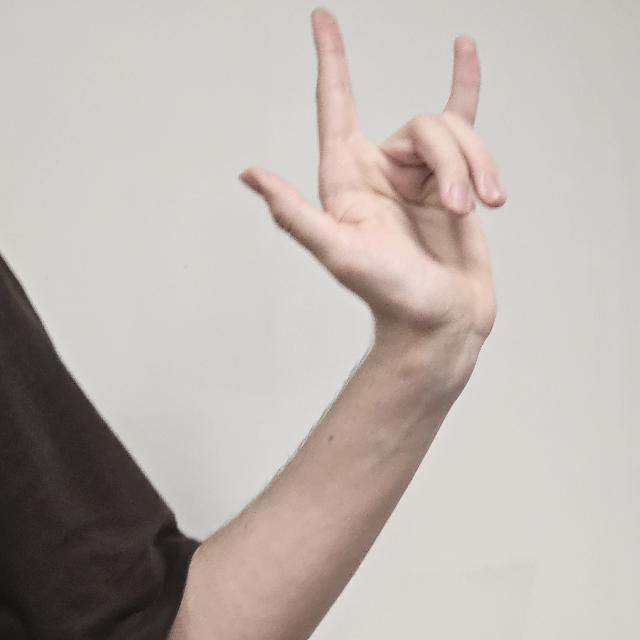Cima: (241, 6, 504, 348)
